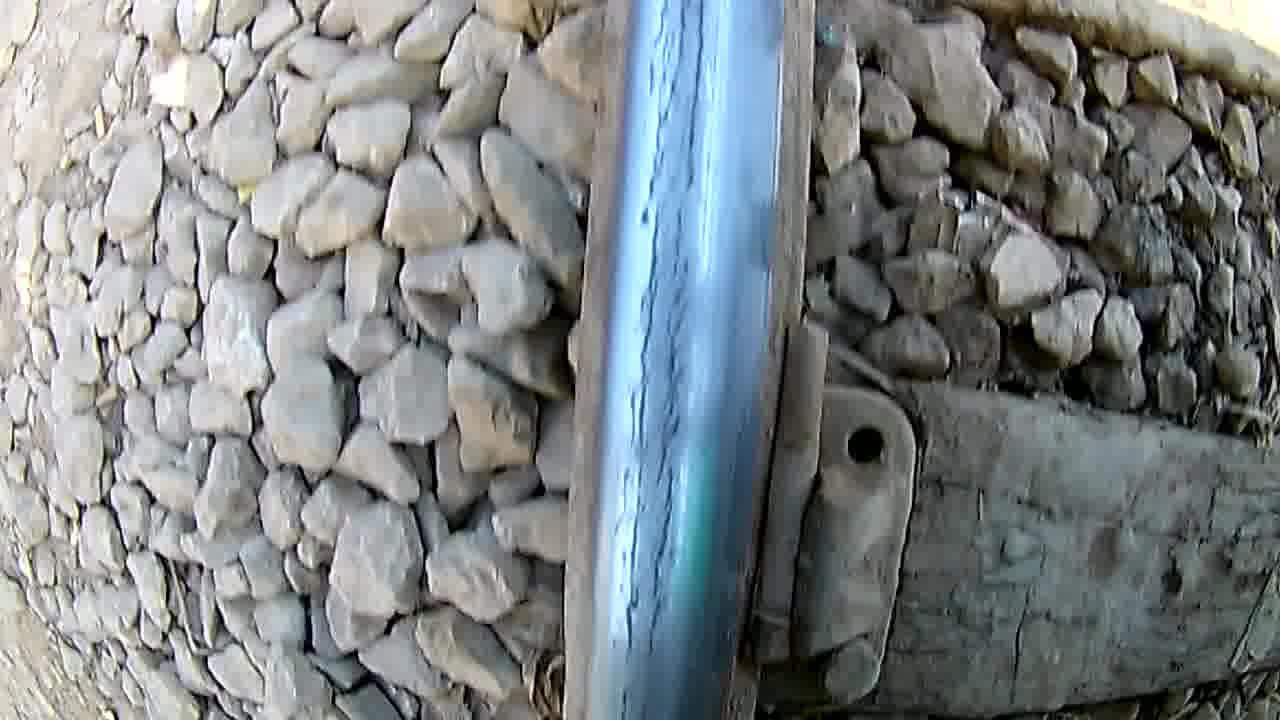normal_track: (608, 3, 698, 720)
